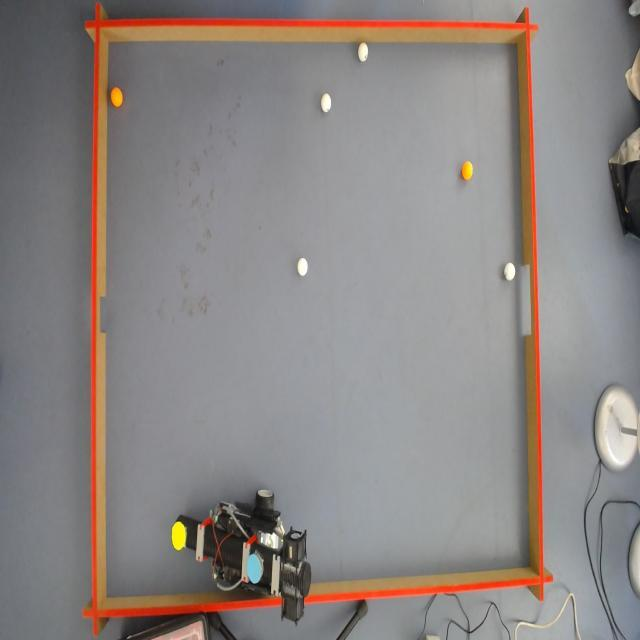orange: (112, 87, 125, 107), (464, 160, 476, 180)
robot: (172, 496, 305, 618)
robot-front: (170, 521, 187, 548)
robot-rear: (244, 546, 263, 582)
white: (319, 92, 332, 114), (504, 262, 516, 283), (296, 256, 308, 277), (358, 43, 370, 63)
